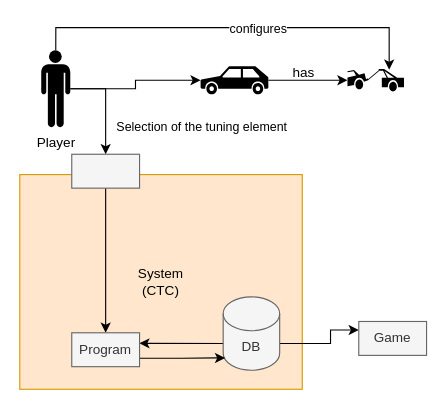
Some shapes in this 446 by 409 pixel diagram are drawn without their labels. Each missing label, with the centre of its shape:
Car: (234,80)
Tuning Parts: (375,79)
UI: (105,170)
